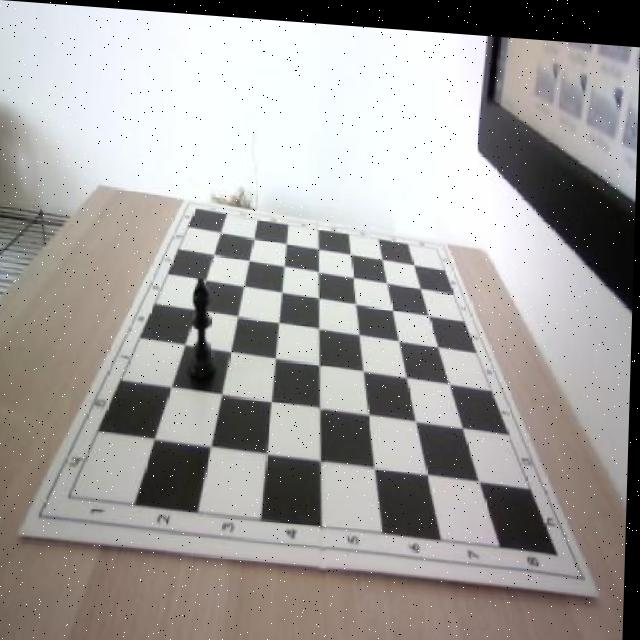bishop: (190, 270, 223, 383)
